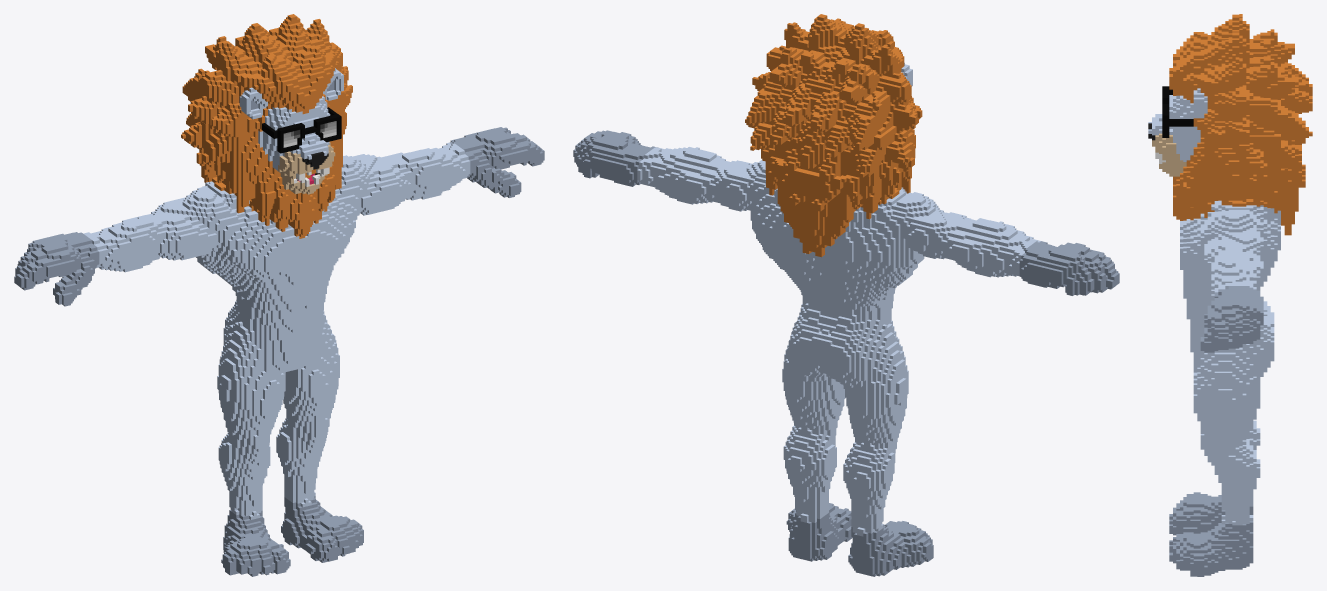
Rendered from 752-SdI7njl3.glb.
3 renders of one model, left to right at view 1: azimuth 30°, elevation 25°; view 2: azimuth 150°, elevation 25°; view 3: azimuth 270°, elevation 25°, orthographic. The views are drawn at different scales.
Parts seen in each view (by area): view 1: open; view 2: open; view 3: open.
Part boxes in pixels (left/top/right/bottom): open: left=14, top=14, right=544, bottom=576; open: left=573, top=14, right=1119, bottom=576; open: left=1148, top=14, right=1312, bottom=576.
Size of the model in its own units: 17.2 by 16.5 by 4.7.
4 materials, 4 textured.
